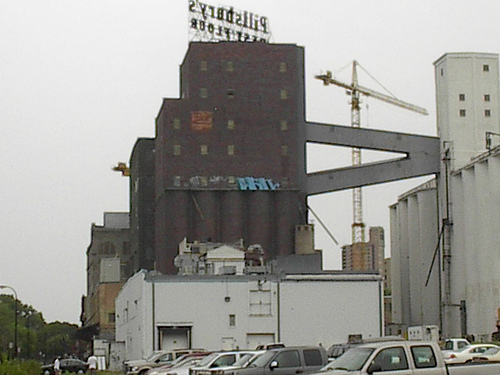graffiti: (173, 175, 236, 189), (237, 175, 282, 192), (189, 107, 216, 133)
